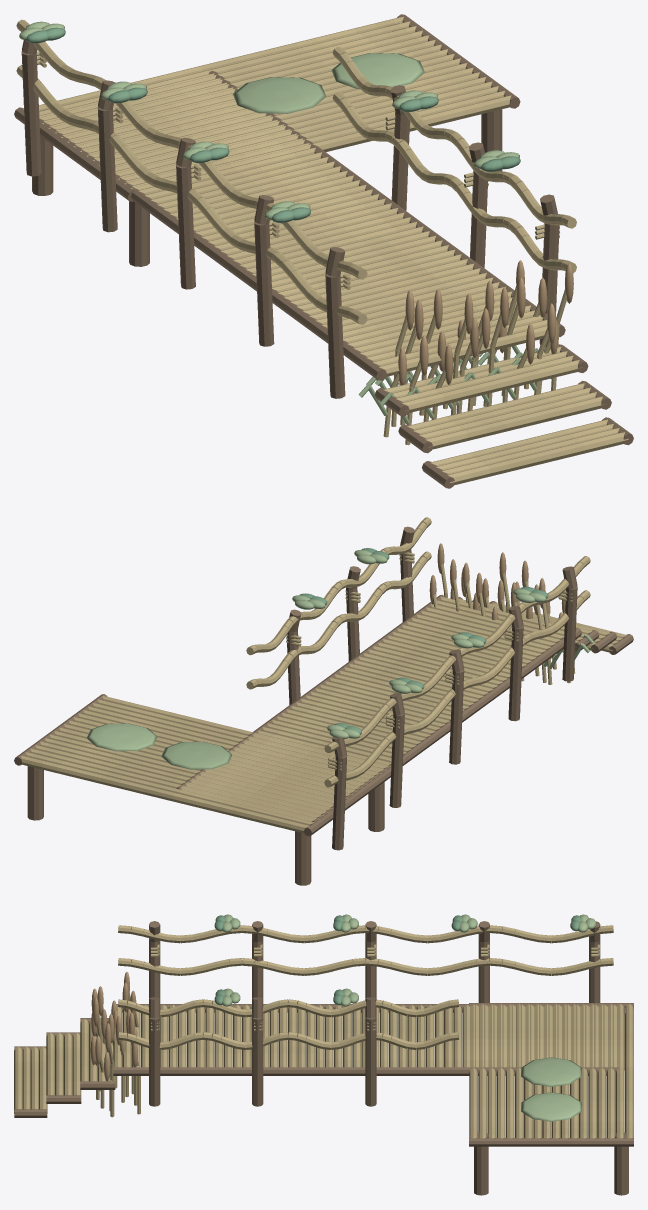
Rendered from opening-reed-bridge.glb.
3 renders of one model, top to bottom at view 1: azimuth 30°, elevation 25°; view 2: azimuth 150°, elevation 25°; view 3: azimuth 270°, elevation 25°, orthographic. The views are drawn at different scales.
Parts seen in each view (by area): view 1: open:reedBridge, shut:reedBridge; view 2: open:reedBridge, shut:reedBridge; view 3: open:reedBridge, shut:reedBridge.
Part boxes in pixels (bbox=[...]): open:reedBridge: bbox=[14, 14, 633, 488]; shut:reedBridge: bbox=[358, 260, 573, 445]; open:reedBridge: bbox=[14, 517, 633, 885]; shut:reedBridge: bbox=[429, 543, 593, 684]; open:reedBridge: bbox=[14, 914, 633, 1195]; shut:reedBridge: bbox=[90, 972, 140, 1117].
Size of the model in its own units: 3.42 by 1.48 by 6.01.
Materials: 5 (5 with a texture image).
